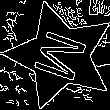M_E: (27, 26, 93, 86)
